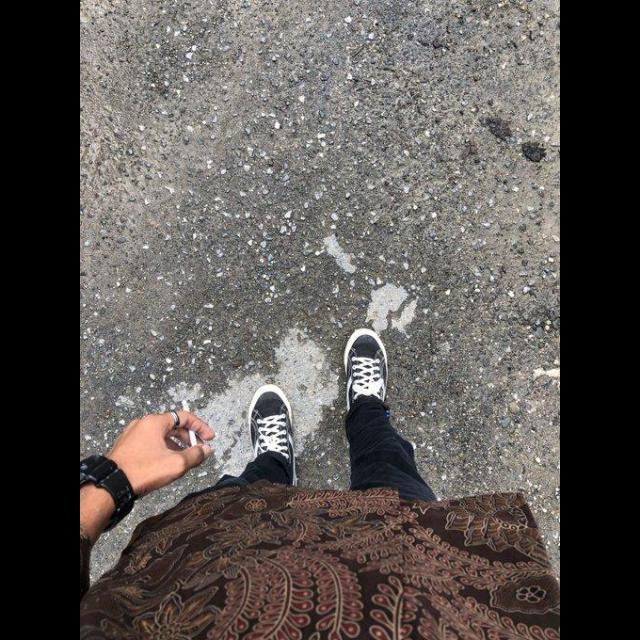rokok: (180, 398, 202, 449)
